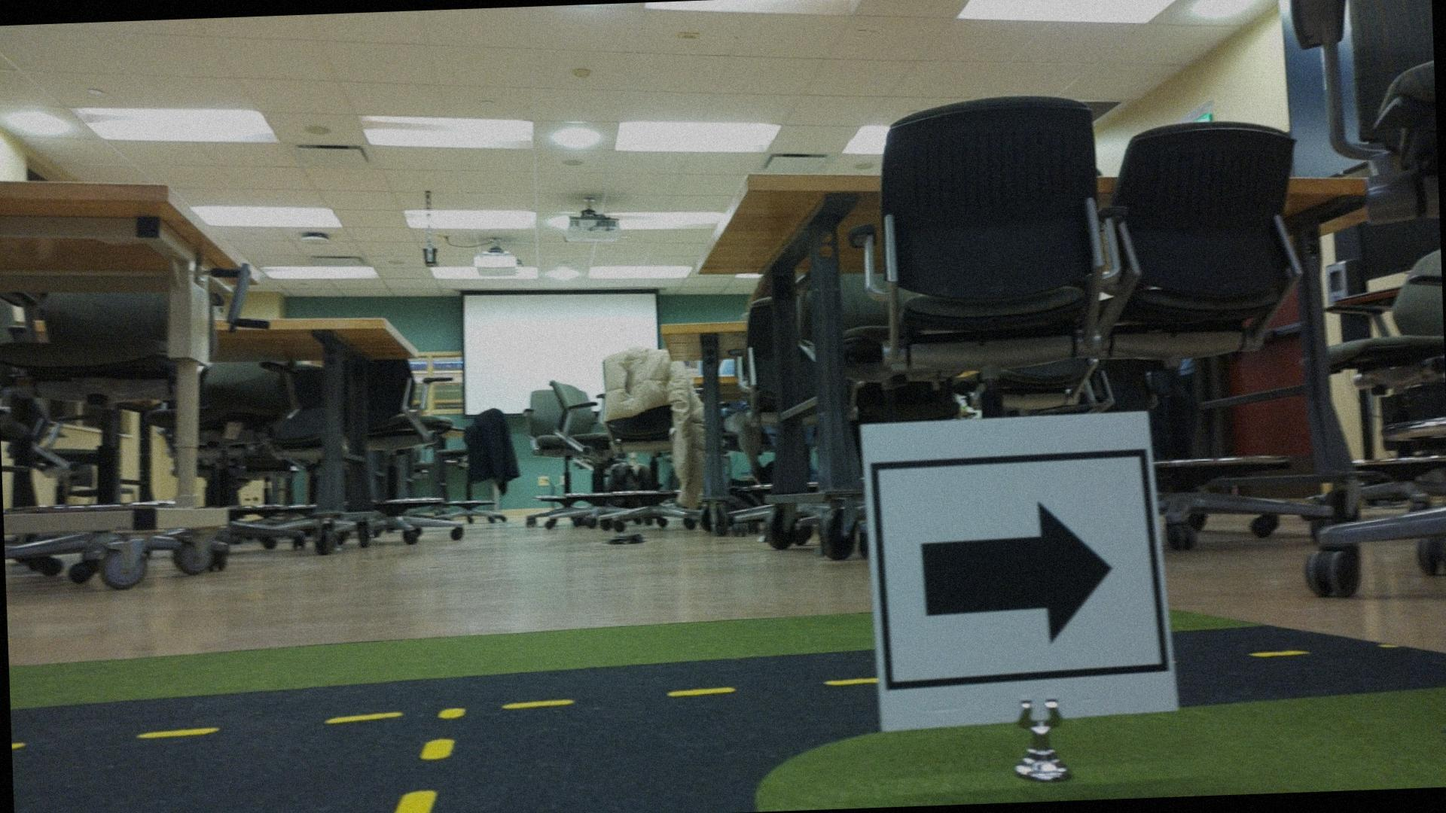turnleft: (872, 416, 1154, 725)
yellowline: (10, 676, 871, 746), (393, 736, 453, 812)
